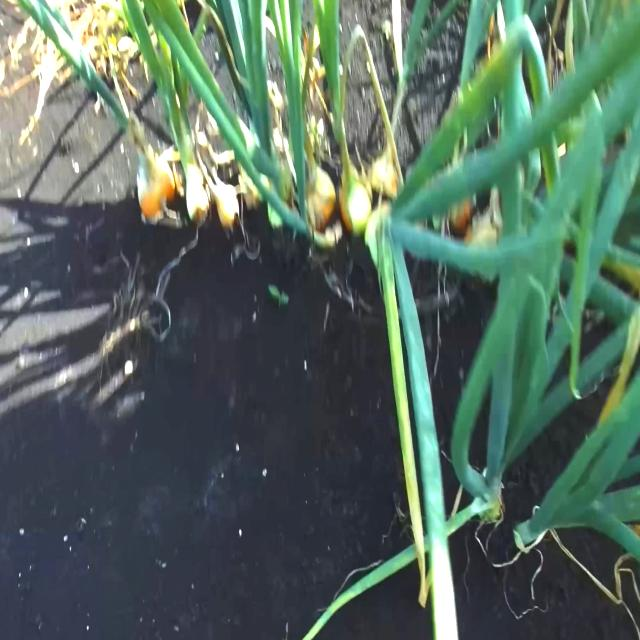onion: (134, 153, 174, 222), (300, 166, 334, 227), (340, 167, 371, 230), (182, 165, 208, 228), (216, 178, 241, 228)
